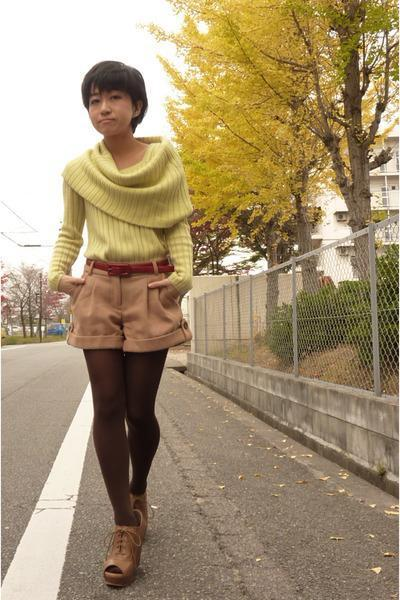jacket: (46, 132, 196, 283)
shoe: (96, 494, 147, 572)
shorts: (60, 252, 191, 352)
